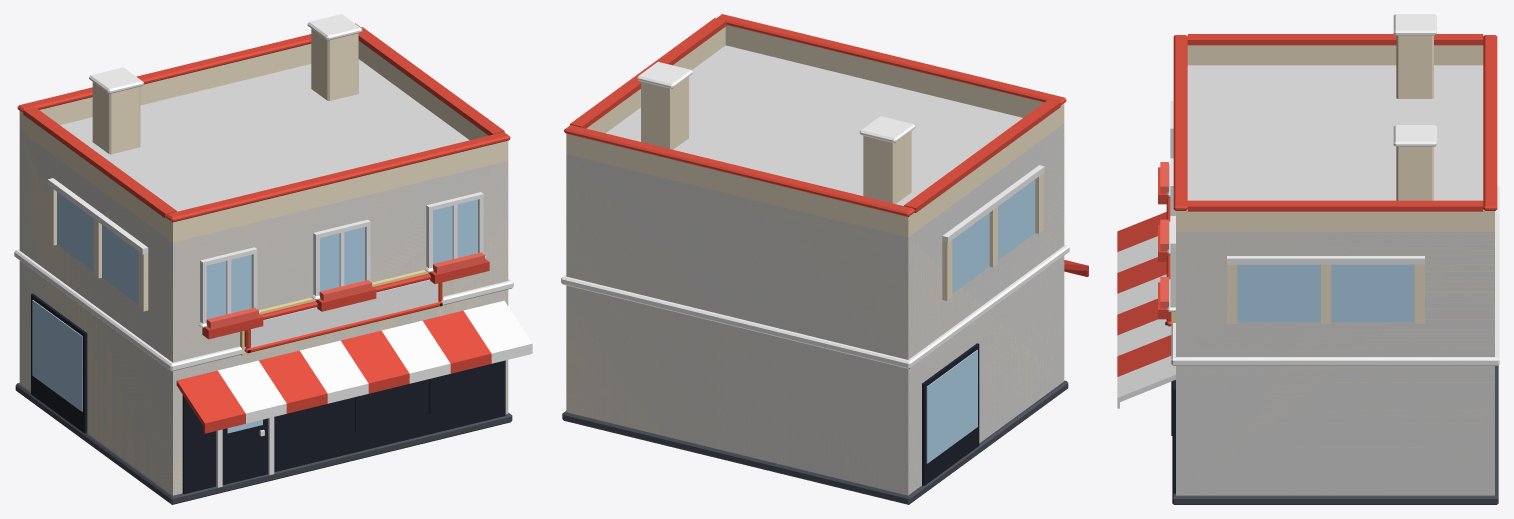
The model's file is corner-shop.glb.
3 renders of one model, left to right at view 1: azimuth 30°, elevation 25°; view 2: azimuth 150°, elevation 25°; view 3: azimuth 270°, elevation 25°, orthographic. The views are drawn at different scales.
Parts seen in each view (by area): view 1: corner-shop, COL_body, sign_board, sign_frame; view 2: COL_body, corner-shop; view 3: COL_body, corner-shop.
Boxes of the visible parts, x1=… form: corner-shop: x1=14, y1=14, x2=532, y2=504; COL_body: x1=19, y1=59, x2=508, y2=495; sign_board: x1=250, y1=279, x2=438, y2=347; sign_frame: x1=240, y1=270, x2=443, y2=355; COL_body: x1=566, y1=45, x2=1064, y2=495; corner-shop: x1=561, y1=14, x2=1088, y2=504; COL_body: x1=1176, y1=65, x2=1494, y2=495; corner-shop: x1=1117, y1=14, x2=1499, y2=504.
Size of the model in its own units: 8.88 by 8.02 by 8.15.
